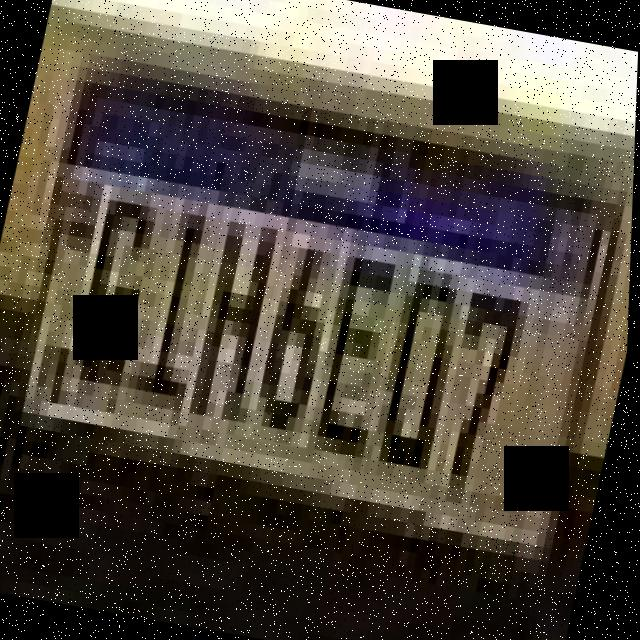0: (366, 264, 472, 484)
6: (248, 222, 350, 449)
7: (446, 287, 538, 489)
E: (310, 238, 410, 463)
G: (69, 180, 171, 402)
H: (186, 206, 290, 436)
I: (134, 195, 224, 422)
